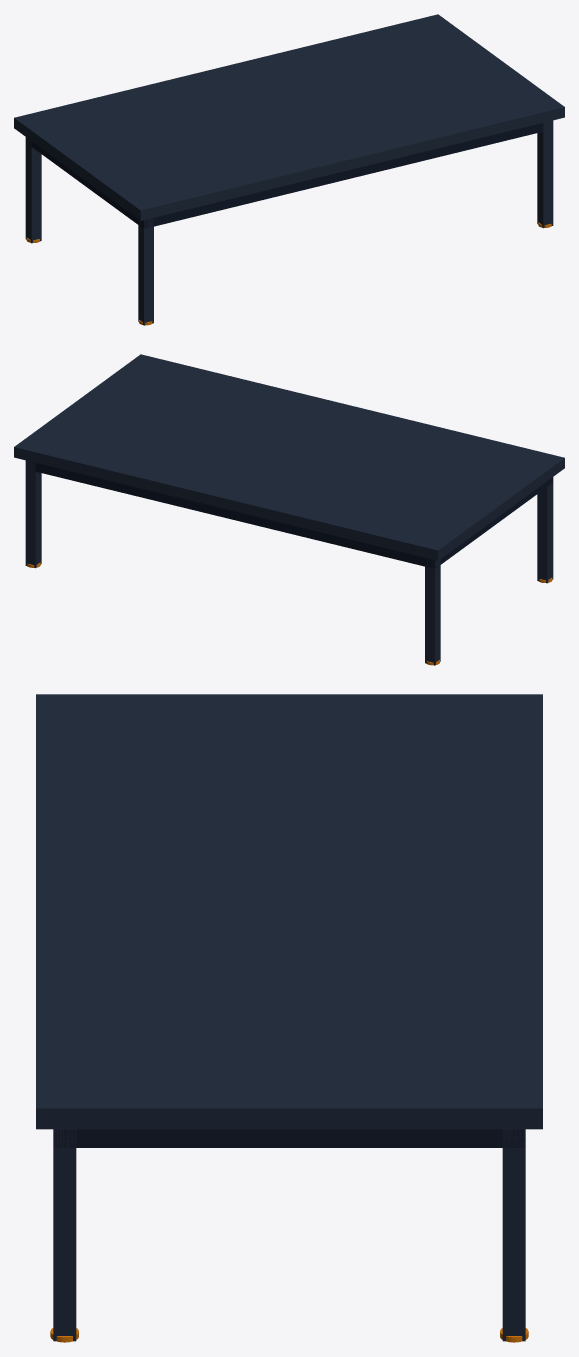
Rendered from lab_workbench.glb.
3 views of the same model, one above another, from view 1: azimuth 30°, elevation 25°; view 2: azimuth 150°, elevation 25°; view 3: azimuth 270°, elevation 25° (orthographic). The views are drawn at different scales.
Parts seen in each view (by area): view 1: Laboratory_Epoxy_Workbench; view 2: Laboratory_Epoxy_Workbench; view 3: Laboratory_Epoxy_Workbench.
Part boxes in pixels (box(x1,y1,x2,y2)): Laboratory_Epoxy_Workbench: box(14, 14, 564, 325); Laboratory_Epoxy_Workbench: box(14, 354, 564, 665); Laboratory_Epoxy_Workbench: box(36, 694, 542, 1342).
Bounding box in the file's own units: 3.4 × 0.92 × 1.76.
